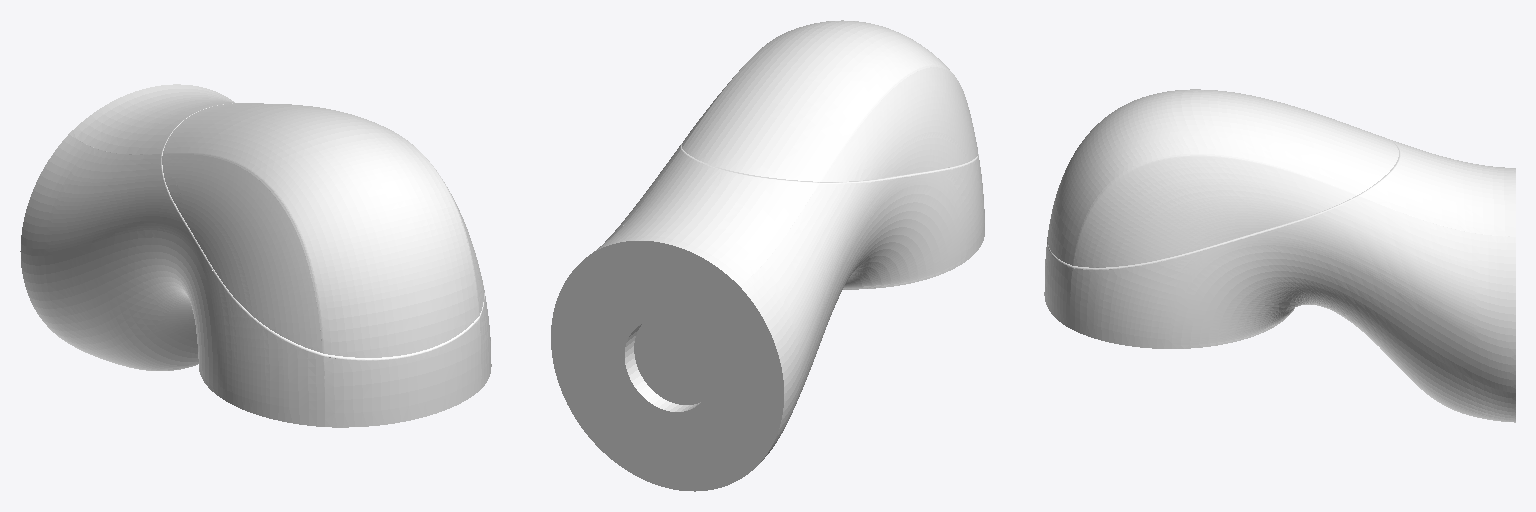
The robot description file, URDF, robot "test_link.urdf":
<?xml version="0.0" ?>
<robot name="test_link.urdf">
  <link name="baseLink">
    <contact>
      <lateral_friction value=".5"/>
    </contact>
    <inertial>
      <origin rpy="0 0 0" xyz="0 0 0"/>
       <mass value=".05"/>
       <inertia ixx="1" ixy="0" ixz="0" iyy="1" iyz="0" izz="1"/>
    </inertial>
    <visual>
      <origin rpy="0 0 0" xyz="0 0 0"/>
      <geometry>
				<mesh filename="link_4.obj" scale="1 1 1"/>
      </geometry>
       <material name="white">
        <color rgba="1 1 1 1"/>
      </material>
    </visual>
    <collision>
      <origin rpy="0 0 0" xyz="0 0 0"/>
      <geometry>
				<mesh filename="link_4.obj" scale="1 1 1"/>
      </geometry>
    </collision>
  </link>
</robot>

--- Render facts (derived) ---
The picture shows the robot from 3 angles, left to right: view 1: azimuth 30°, elevation 25°; view 2: azimuth 150°, elevation 25°; view 3: azimuth 270°, elevation 25°; orthographic projection.
Model test_link.urdf with 1 links and 0 joints (none), rooted at baseLink, posed every joint at zero.
Visible links, largest first — view 1: baseLink; view 2: baseLink; view 3: baseLink.
Link boxes in pixels (x1=…): baseLink: x1=20, y1=84, x2=491, y2=427; baseLink: x1=551, y1=20, x2=984, y2=491; baseLink: x1=1044, y1=89, x2=1515, y2=422.
Size in the robot's own frame: 0.136 by 0.252 by 0.1826 metres.
1 mesh visuals loaded from 1 distinct referenced files (1 OBJ).